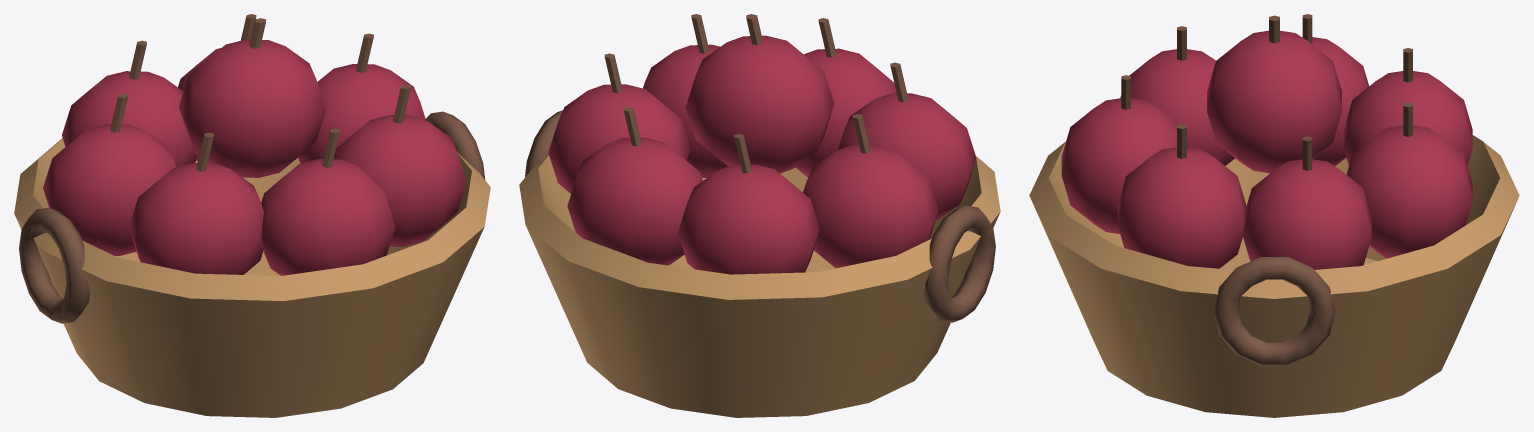
The model's file is alpine-snow-village-winter-apple-basket-f590b72d__19847.glb.
3 renders of one model, left to right at view 1: azimuth 30°, elevation 25°; view 2: azimuth 150°, elevation 25°; view 3: azimuth 270°, elevation 25°, orthographic.
Visible parts, largest first — view 1: winter-apple-basket-berry, winter-apple-basket-oak, winter-apple-basket-wood; view 2: winter-apple-basket-berry, winter-apple-basket-oak, winter-apple-basket-wood; view 3: winter-apple-basket-berry, winter-apple-basket-oak, winter-apple-basket-wood.
Boxes of the visible parts, <box> form: winter-apple-basket-berry: <box>43,39,466,275</box>; winter-apple-basket-oak: <box>14,138,490,417</box>; winter-apple-basket-wood: <box>19,14,485,323</box>; winter-apple-basket-berry: <box>548,35,976,274</box>; winter-apple-basket-oak: <box>519,154,1000,417</box>; winter-apple-basket-wood: <box>525,14,995,322</box>; winter-apple-basket-berry: <box>1061,30,1472,269</box>; winter-apple-basket-oak: <box>1029,135,1519,417</box>; winter-apple-basket-wood: <box>1121,14,1412,365</box>.
Size of the model in its own units: 0.76 by 0.56 by 0.76.
